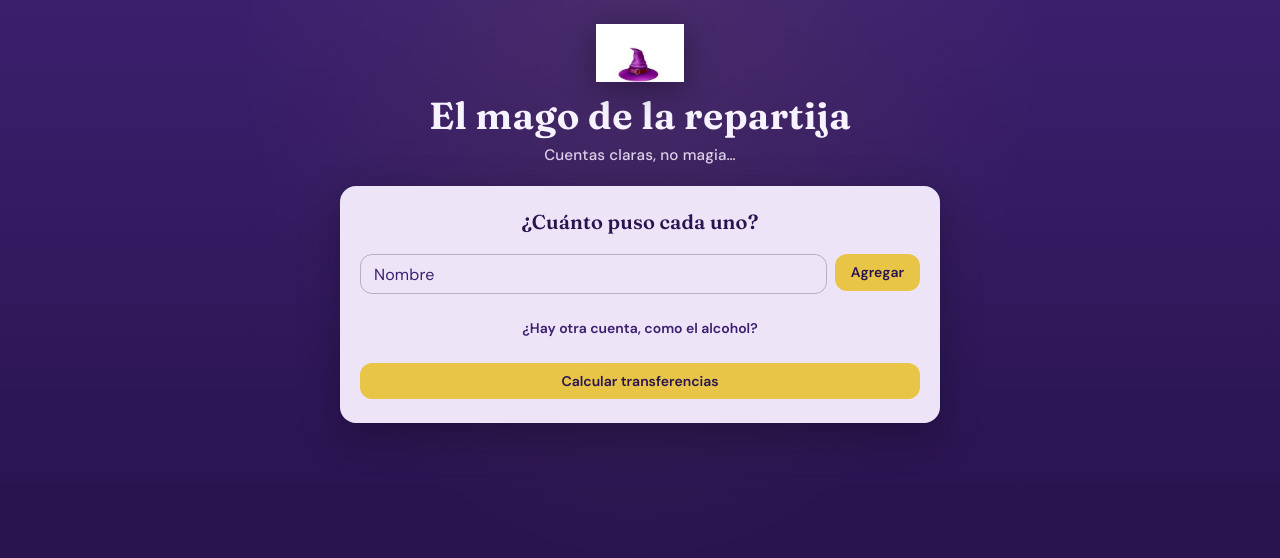
Test: debería rechazar el nombre cuando está vacío o duplicado y debería borrar el aviso cuando se corrige
Click the button "Agregar" at (877, 273), box [835,254,920,291]
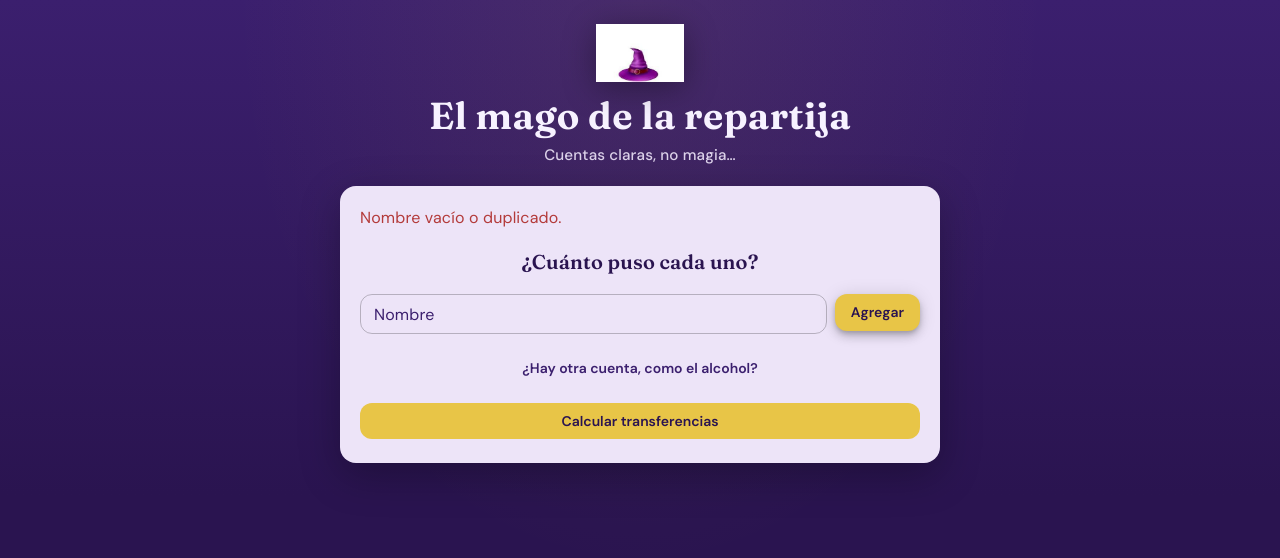
Expected: the text "Nombre vacío o duplicado." is shown, [360,208,562,228]
Type "Ferra" into the field labelled "Nombre" at (593, 314), box [360,294,827,334]
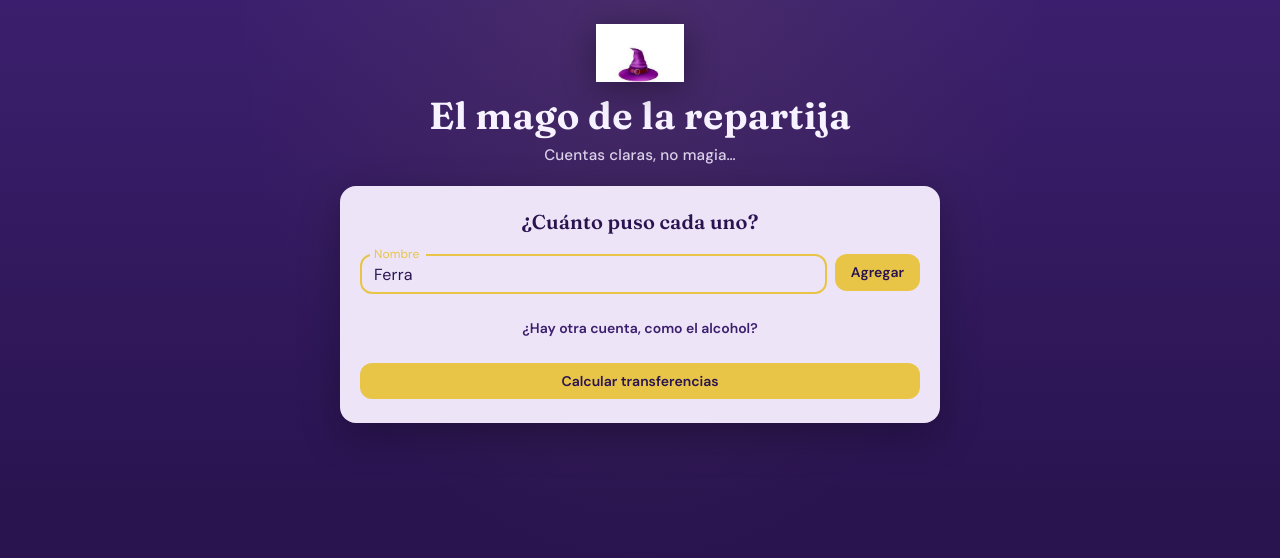
Expected: the text "Nombre vacío o duplicado." is gone
Click the button "Agregar" at (877, 273), box [835,254,920,291]
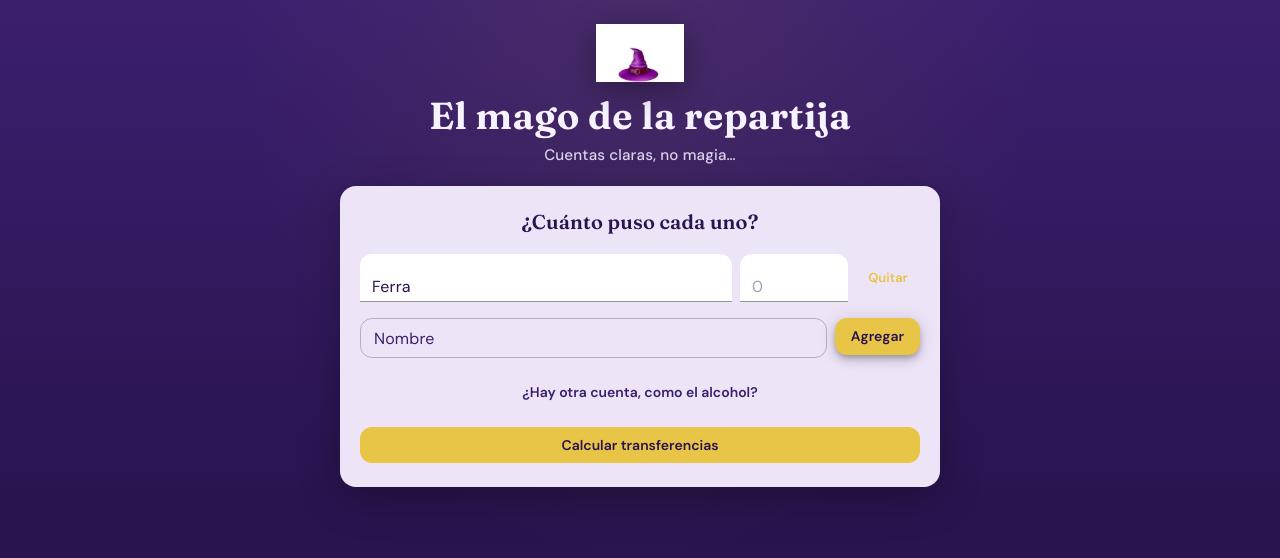
Type "Ferra" into the field labelled "Nombre" at (593, 338), box [360,318,827,358]
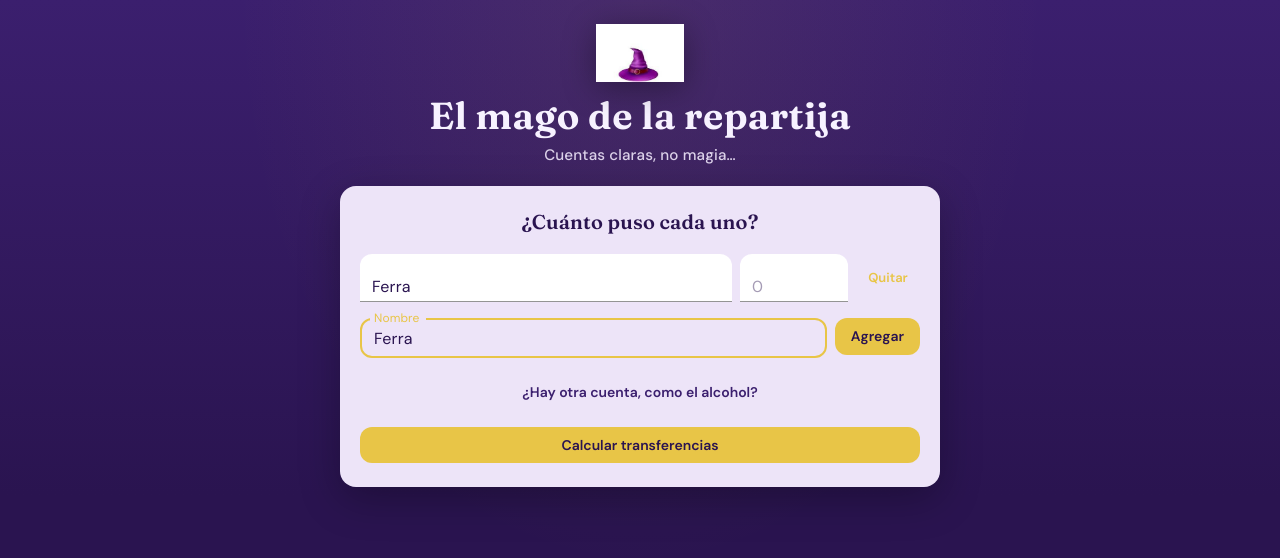
Click the button "Agregar" at (877, 337), box [835,318,920,355]
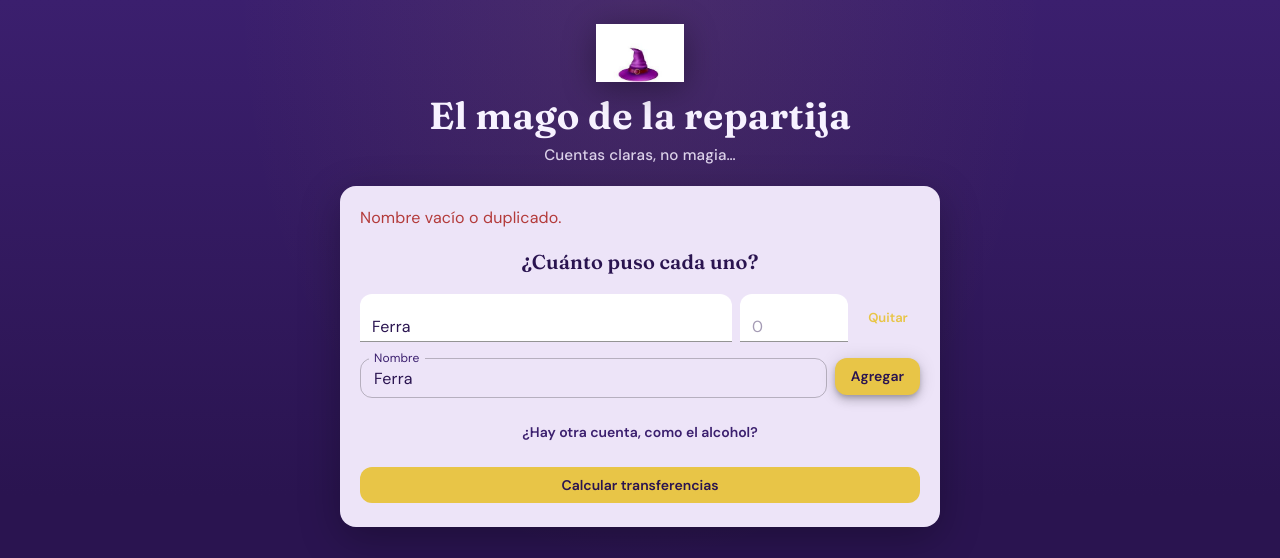
Expected: the number of fields named "Nombre de " is 1, [360,294,732,342]
Expected: the text "Nombre vacío o duplicado." is shown, [360,208,562,228]
